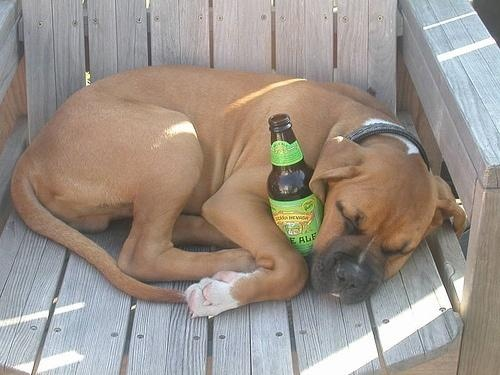bottle: (267, 114, 327, 260)
chair: (1, 1, 500, 375)
dog: (11, 65, 466, 319)
